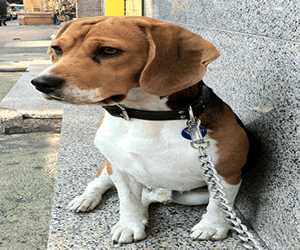dog: (29, 15, 253, 250)
